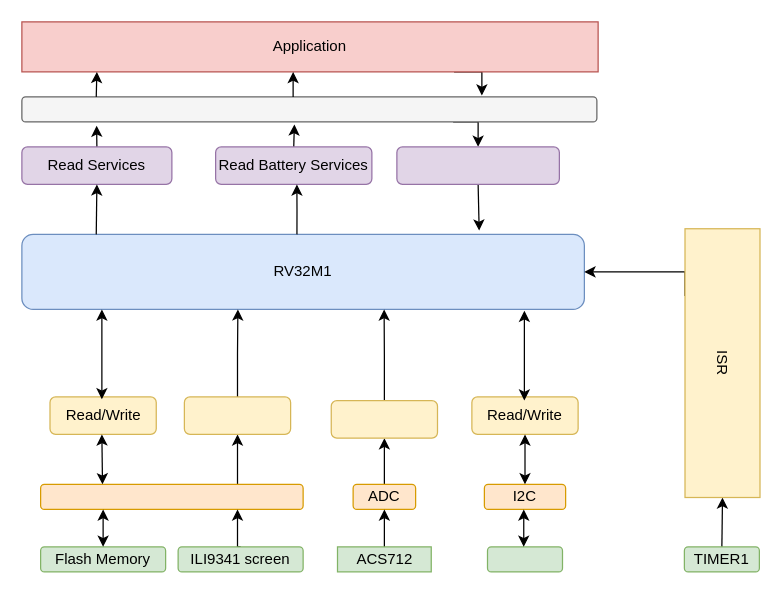
Image size: 783x594. Some labels were removed from this diagram. Here are the shapes that lost their labels. From the top down, the centre of each, then its label:
the point at 309,109: Bluetooth Low Energy Protocol
the point at 477,165: Custom Write
the point at 237,415: Read
the point at 384,418: Read ADC
the point at 171,496: SPI
the point at 524,559: RTC
